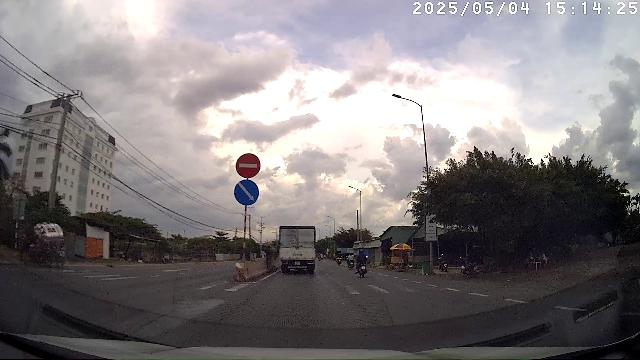102-cam-di-nguoc-chieu: (236, 152, 262, 178)
302a-huong-phai-di-vong-chuong-ngai-vat-1: (234, 178, 260, 206)
